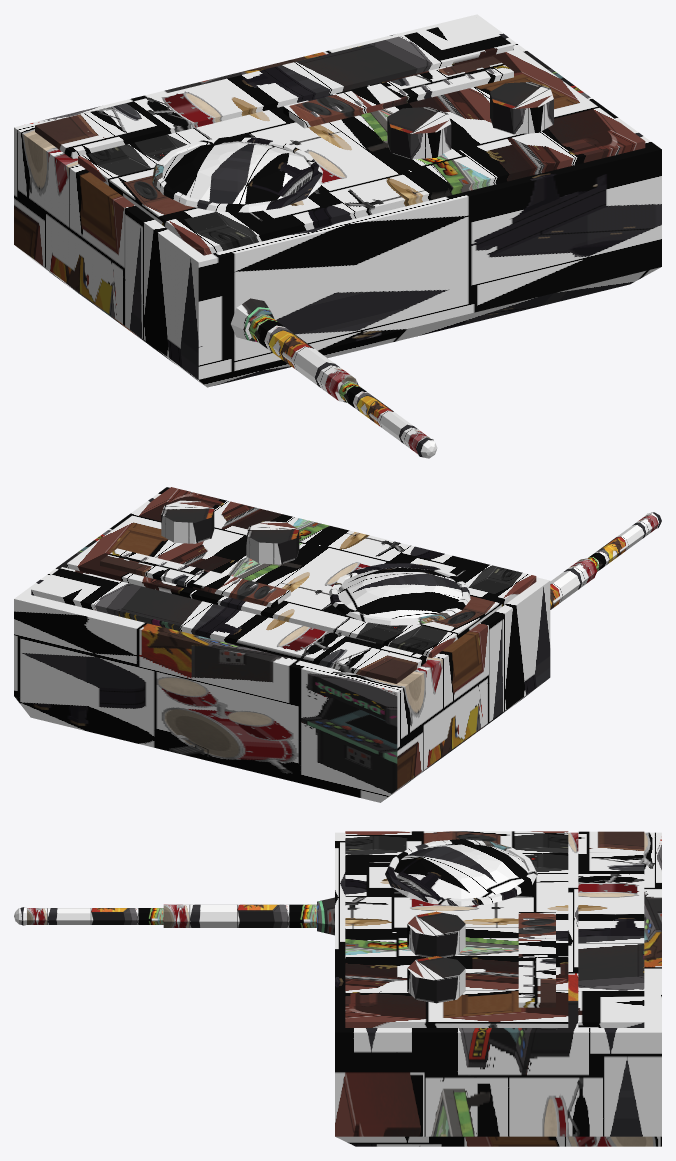
3 views of the same model, one above another, from view 1: azimuth 30°, elevation 25°; view 2: azimuth 150°, elevation 25°; view 3: azimuth 270°, elevation 25° (orthographic). The views are drawn at different scales.
Size of the model in its own units: 0.42 by 0.155 by 0.5748.
